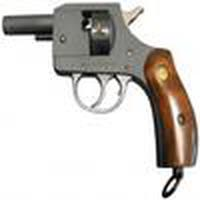gun: (1, 3, 191, 200)
